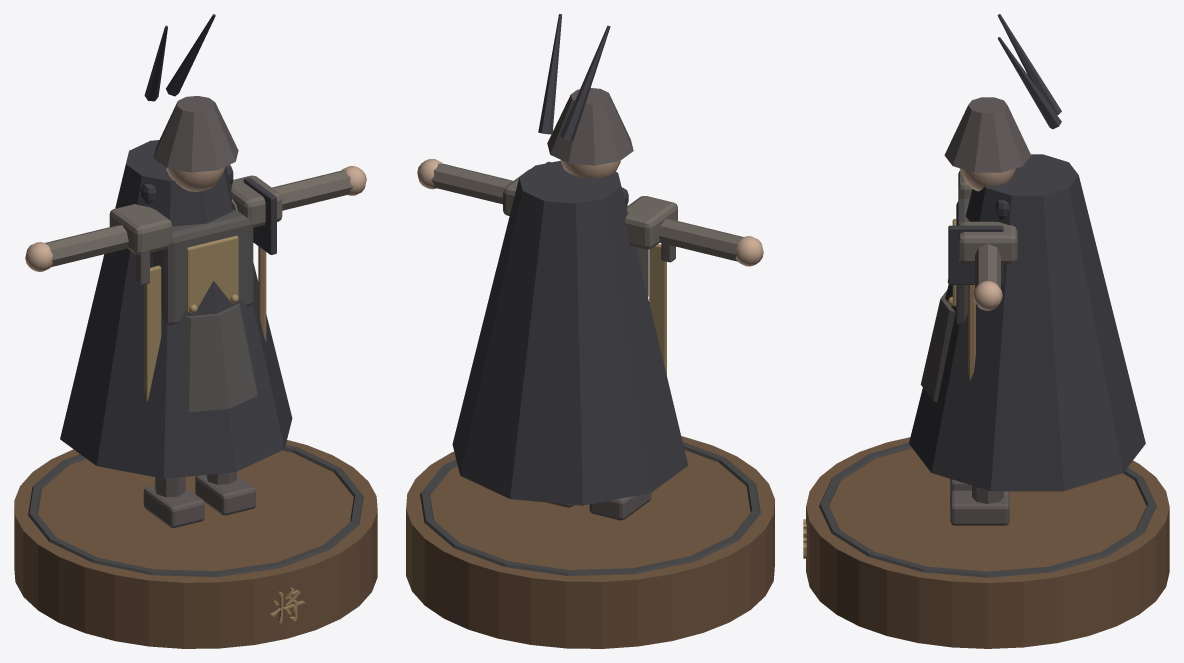
The model's file is general_black.glb.
3 views of the same model, side by side, from view 1: azimuth 30°, elevation 25°; view 2: azimuth 150°, elevation 25°; view 3: azimuth 270°, elevation 25° (orthographic).
Visible parts, largest first — view 1: base, g_cape, g_skirt, g_cuirass, g_kui, base_trim_top, g_plastron, g_pauldron_-1, g_arm_-1, g_arm_1, g_sword_blade, g_boot_-0.075 (+10 smaller); view 2: g_cape, base, base_trim_top, g_kui, g_arm_-1, g_pauldron_-1, g_arm_1, g_sword_blade, g_ling_1, g_ling_-1, g_boot_-0.075, g_hand_-1 (+1 smaller); view 3: base, g_cape, g_kui, base_trim_top, g_skirt, g_pauldron_1, g_boot_0.075, g_flag, g_arm_1, g_ling_1, g_ling_-1, g_head (+3 smaller).
Part boxes in pixels (left/top/right/bottom): base: left=14, top=440, right=377, bottom=648; g_cape: left=60, top=140, right=292, bottom=478; g_skirt: left=184, top=303, right=257, bottom=412; g_cuirass: left=151, top=209, right=253, bottom=324; g_kui: left=153, top=96, right=238, bottom=172; base_trim_top: left=28, top=445, right=363, bottom=576; g_plastron: left=186, top=236, right=238, bottom=312; g_pauldron_-1: left=109, top=204, right=172, bottom=254; g_arm_-1: left=45, top=225, right=128, bottom=266; g_arm_1: left=231, top=170, right=352, bottom=210; g_sword_blade: left=144, top=265, right=161, bottom=401; g_boot_-0.075: left=143, top=485, right=204, bottom=527; g_cape: left=452, top=160, right=688, bottom=505; base: left=406, top=436, right=774, bottom=648; base_trim_top: left=420, top=442, right=760, bottom=575; g_kui: left=547, top=88, right=633, bottom=165; g_arm_-1: left=658, top=219, right=743, bottom=261; g_pauldron_-1: left=625, top=196, right=677, bottom=249; g_arm_1: left=431, top=163, right=512, bottom=204; g_sword_blade: left=649, top=244, right=666, bottom=375; g_ling_1: left=538, top=14, right=562, bottom=134; g_ling_-1: left=560, top=25, right=610, bottom=140; g_boot_-0.075: left=589, top=493, right=651, bottom=520; g_hand_-1: left=735, top=236, right=763, bottom=266; base: left=806, top=437, right=1169, bottom=648; g_cape: left=909, top=154, right=1145, bottom=491; g_kui: left=944, top=97, right=1031, bottom=172; base_trim_top: left=819, top=443, right=1156, bottom=577; g_skirt: left=920, top=290, right=955, bottom=401; g_pauldron_1: left=958, top=221, right=1017, bottom=263; g_boot_0.075: left=950, top=490, right=1009, bottom=525; g_flag: left=948, top=225, right=1003, bottom=284; g_arm_1: left=975, top=244, right=1000, bottom=288; g_ling_1: left=997, top=37, right=1061, bottom=129; g_ling_-1: left=997, top=14, right=1061, bottom=115; g_head: left=959, top=168, right=1015, bottom=191.
Bounding box in the file's own units: 0.9823 × 1.53 × 0.927.
